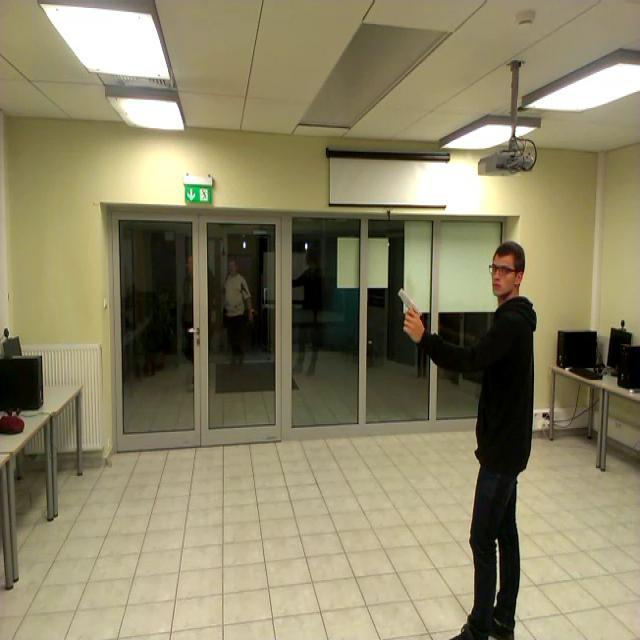Gun: (399, 288, 423, 330)
